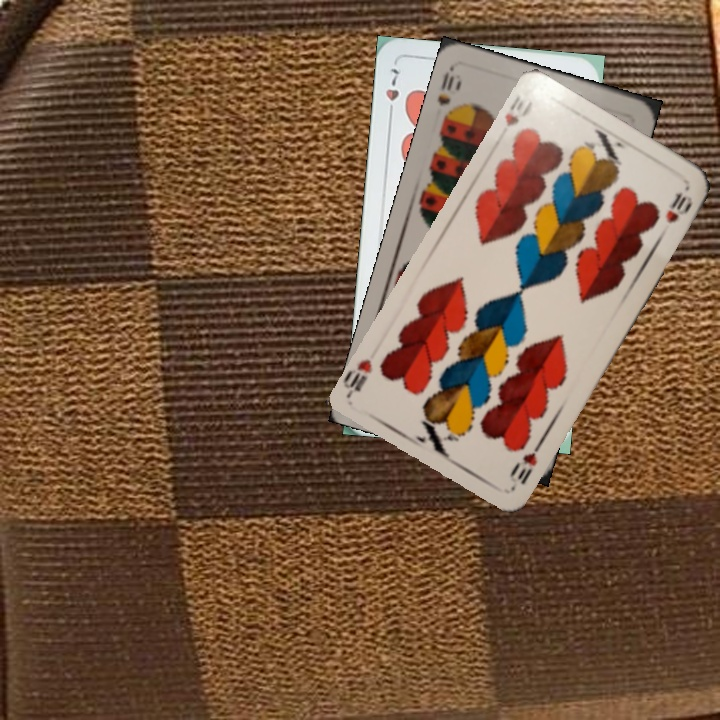H10: (505, 436, 545, 487), (501, 91, 536, 130)
H7: (381, 65, 402, 121)
S10: (433, 65, 464, 124)
